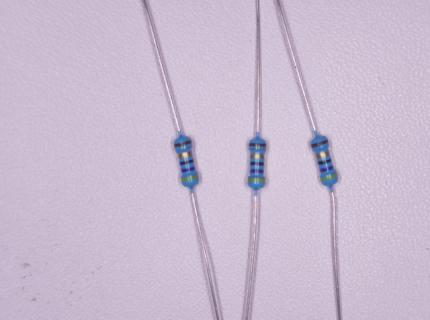Gold band: (316, 151, 330, 159), (179, 152, 192, 159), (250, 154, 264, 159)
Violet band: (320, 165, 334, 173), (181, 166, 195, 173), (250, 169, 263, 173)
Yellow band: (320, 173, 337, 182), (181, 175, 199, 182), (248, 178, 265, 183)
